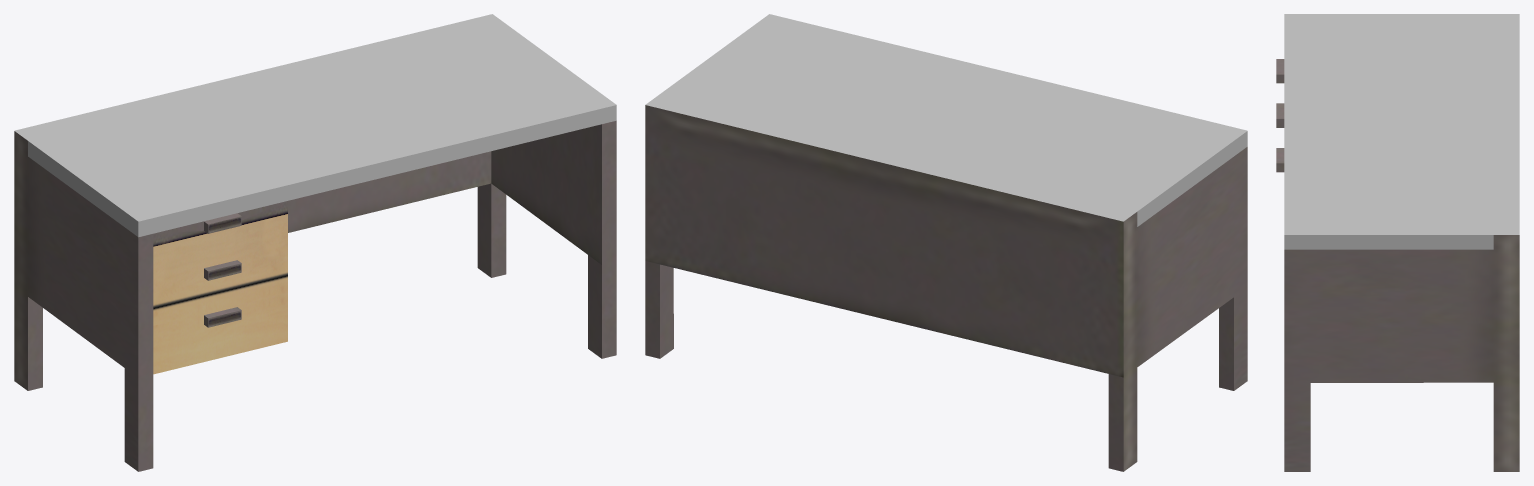
File: desk 1.fbx
3 views of the same model, side by side, from view 1: azimuth 30°, elevation 25°; view 2: azimuth 150°, elevation 25°; view 3: azimuth 270°, elevation 25° (orthographic). The views are drawn at different scales.
Visible parts, largest first — view 1: pCube1, wood; view 2: pCube1, wood; view 3: wood, pCube1.
Part boxes in pixels (<box>): pCube1: <box>14,120,616,471</box>; wood: <box>14,14,616,237</box>; pCube1: <box>645,105,1247,471</box>; wood: <box>645,14,1247,226</box>; wood: <box>1284,14,1519,249</box>; pCube1: <box>1276,59,1519,471</box>.
Size of the model in its own units: 4 by 2 by 1.86.
